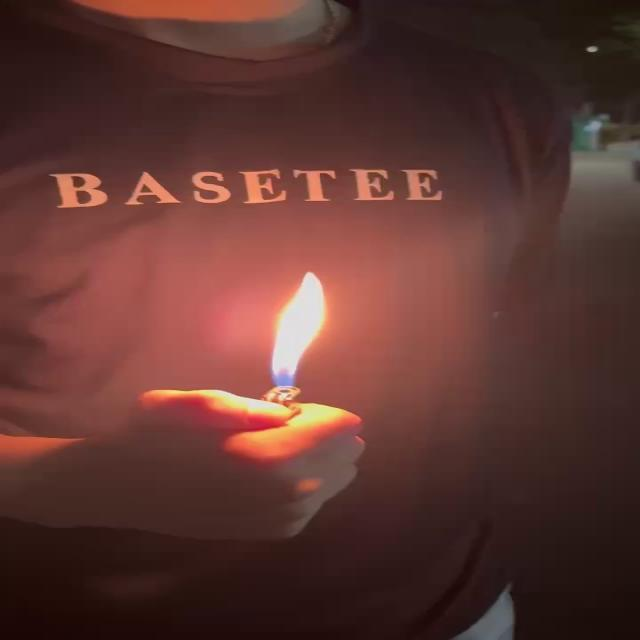Fire: (267, 271, 332, 390)
